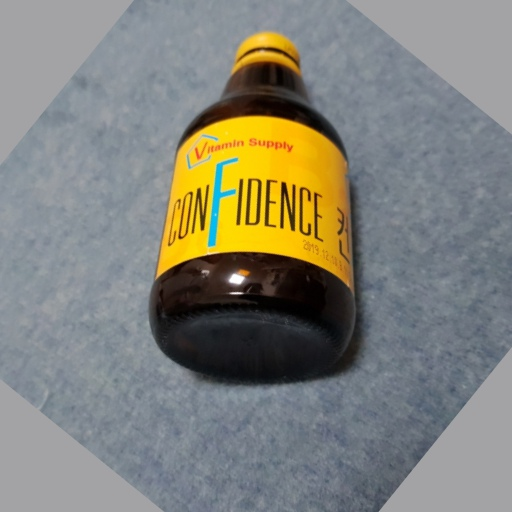Glass_3: (141, 33, 357, 383)
